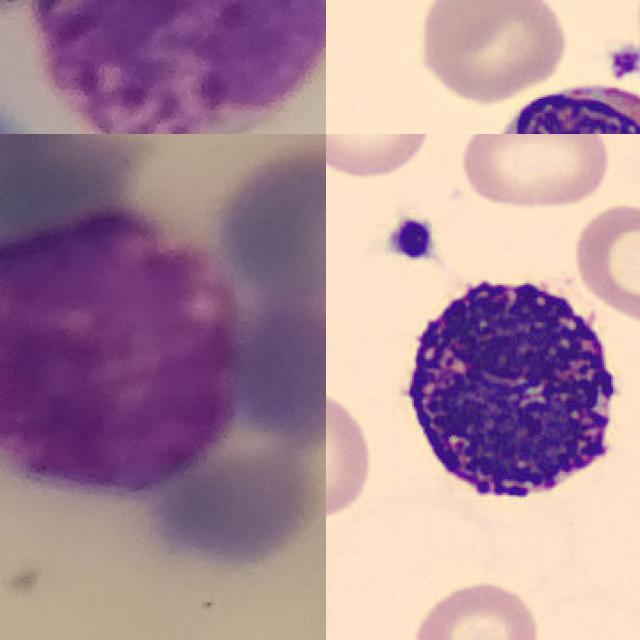Basophil: (0, 209, 244, 491), (389, 257, 631, 523), (35, 0, 326, 134)
Eosinophil: (454, 72, 640, 134)
Platelets: (384, 213, 441, 264), (603, 40, 640, 81)
RBC: (412, 0, 572, 105), (457, 134, 615, 212), (568, 196, 640, 327), (407, 574, 544, 640), (326, 380, 376, 524), (326, 134, 438, 181)
